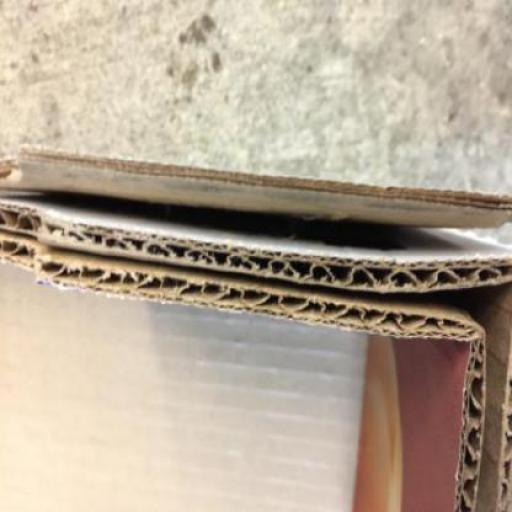cardboard: (0, 145, 511, 511), (0, 192, 511, 511), (0, 231, 486, 511)
